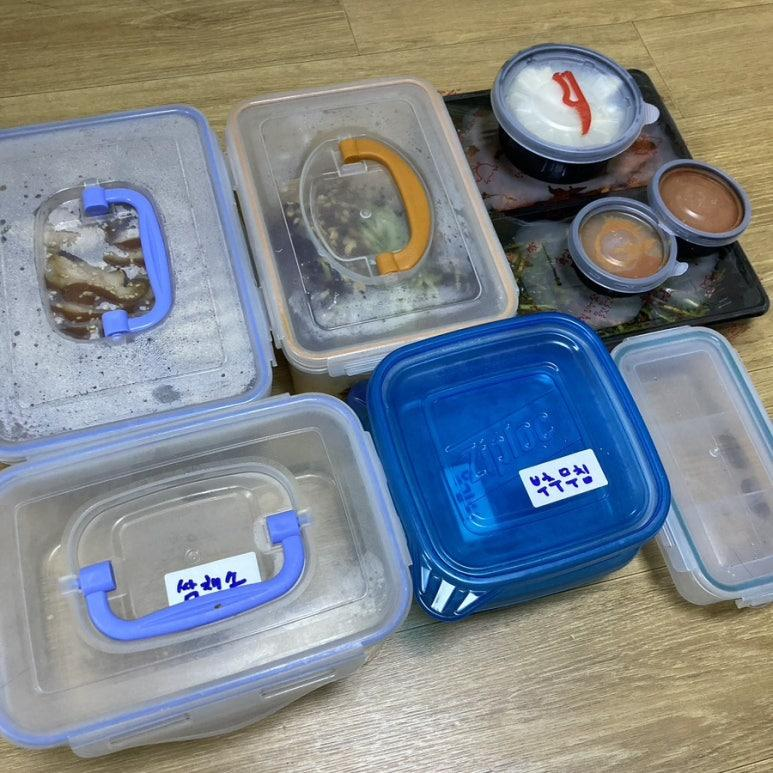Lunch Box: (0, 396, 409, 754), (0, 106, 270, 460), (366, 313, 668, 619), (226, 78, 516, 390), (445, 70, 768, 346), (613, 327, 772, 606), (490, 44, 658, 181)
cup: (567, 197, 686, 294), (648, 159, 750, 248)
